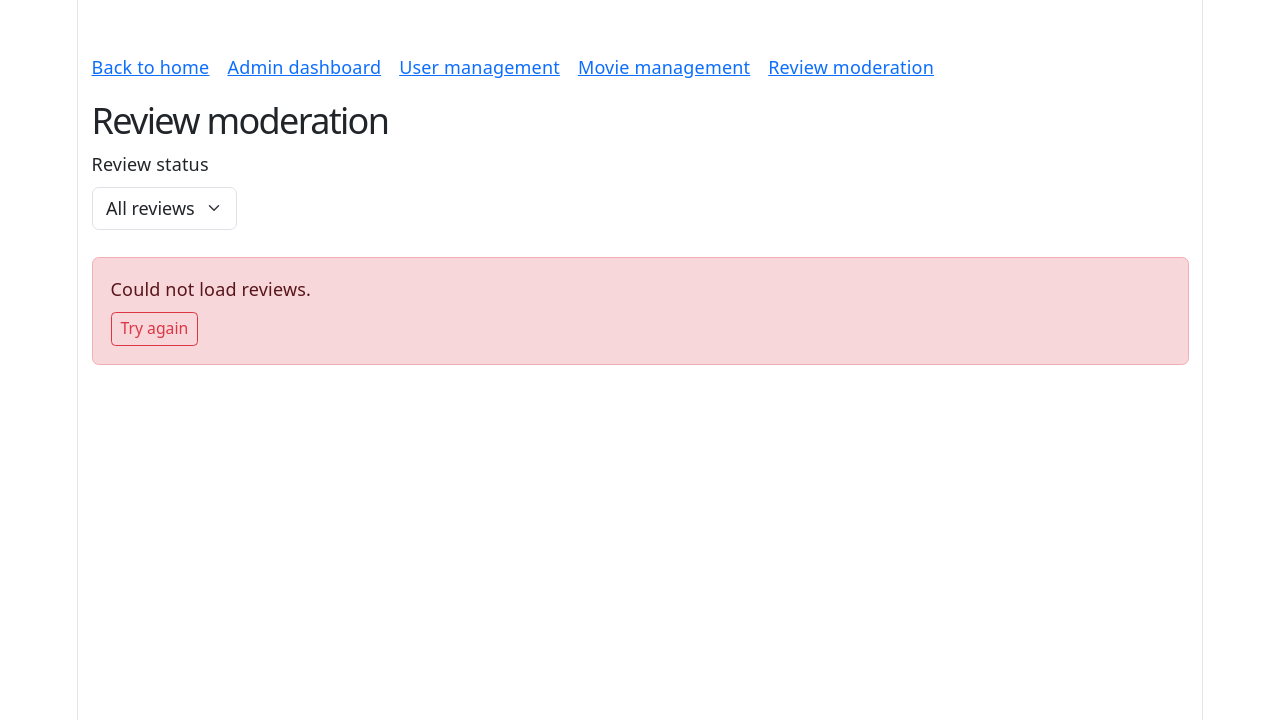
Scenario: distinguishes a failed list request from a successful empty result
Expected: the message shows "Could not load reviews.", top-left (110, 277), bottom-right (311, 301)
Click the button "Try again". click: (154, 329)
box: top-left (110, 312), bottom-right (198, 346)
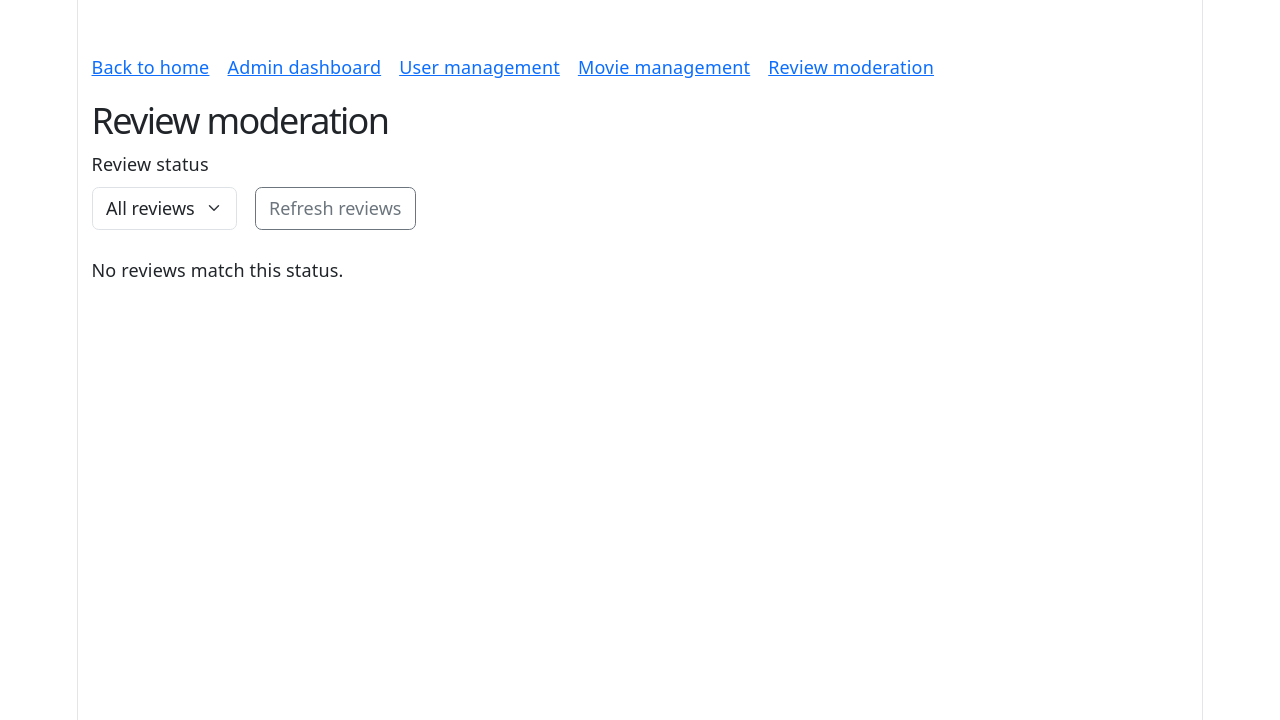
Now the text "No reviews match this status." is shown, box top-left (92, 258), bottom-right (344, 282)
